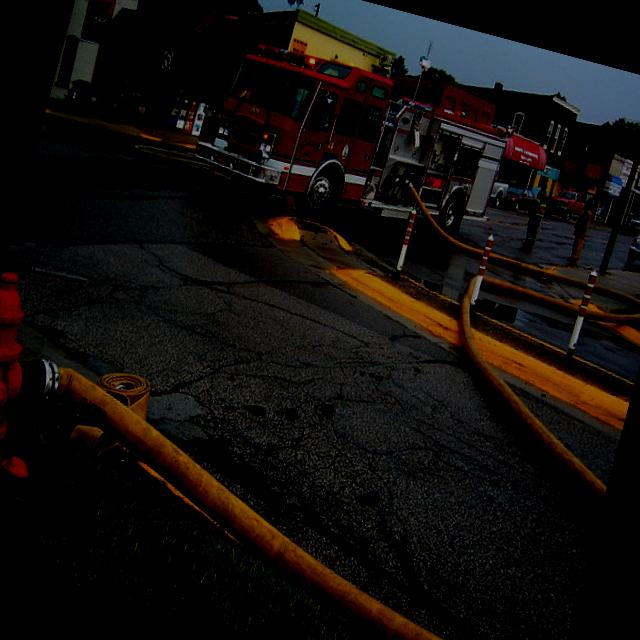Vehicle: (186, 30, 516, 262), (542, 184, 588, 228), (498, 184, 542, 217), (624, 224, 640, 274), (624, 210, 640, 239)
